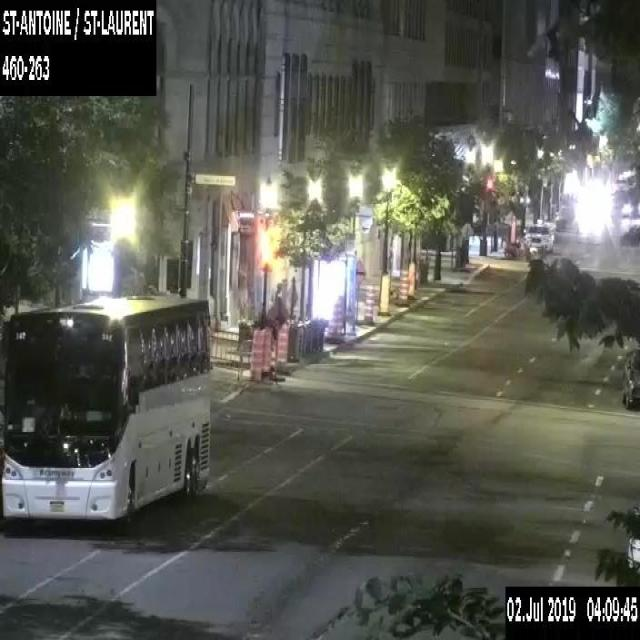bus: (1, 288, 211, 533)
construction: (249, 327, 263, 383), (324, 294, 340, 342), (276, 321, 289, 372), (261, 325, 272, 380), (361, 283, 375, 325), (394, 267, 408, 304), (334, 293, 344, 341), (378, 273, 389, 315), (407, 260, 415, 299)
pedestrian: (274, 282, 286, 324)
vehicle: (617, 348, 639, 410), (522, 222, 554, 252), (624, 535, 639, 569)
